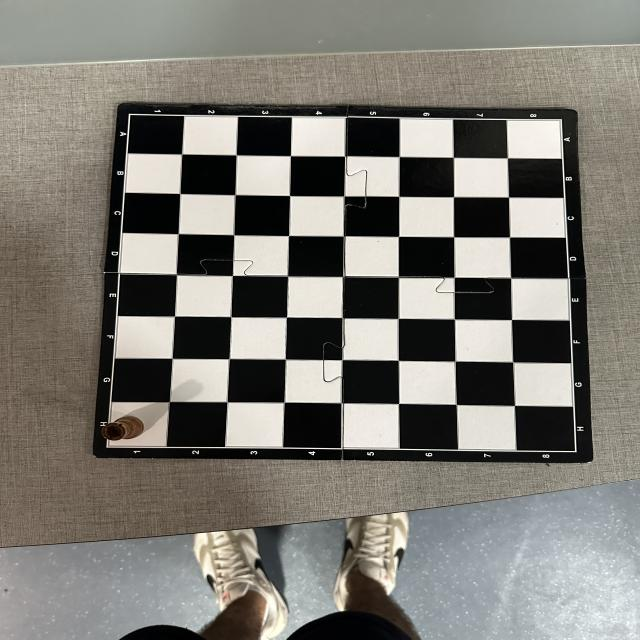Black-Rook: (102, 416, 144, 441)
